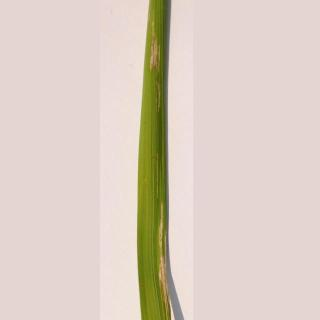Hawar-Daun: (134, 136, 190, 320), (145, 9, 168, 118)
